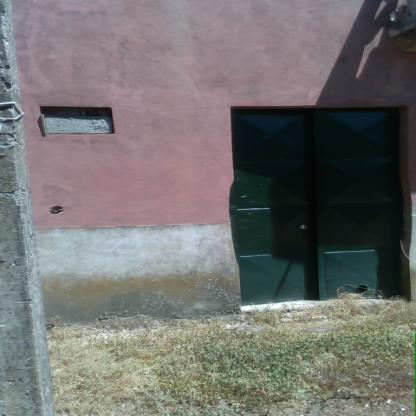closed: (221, 91, 416, 309)
